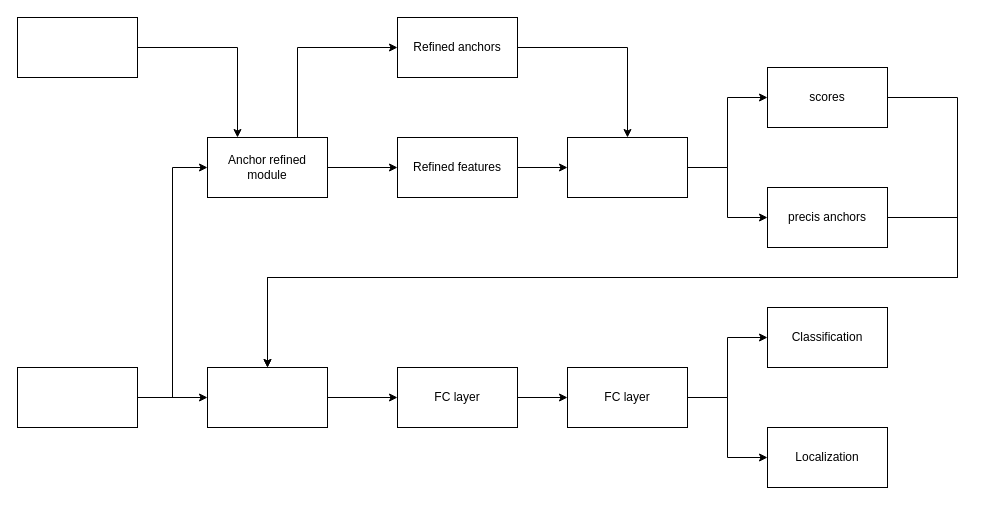
Image size: 983x505. Some labels were removed from this diagram. The shapes that lost their labels are listed below. From the top down, each one's centre as x and y in pixels, then its label:
the point at 77,47: Prior anchors
the point at 627,167: Region proposal network
the point at 77,397: Backbone+FPN
the point at 267,397: ROI pooling
